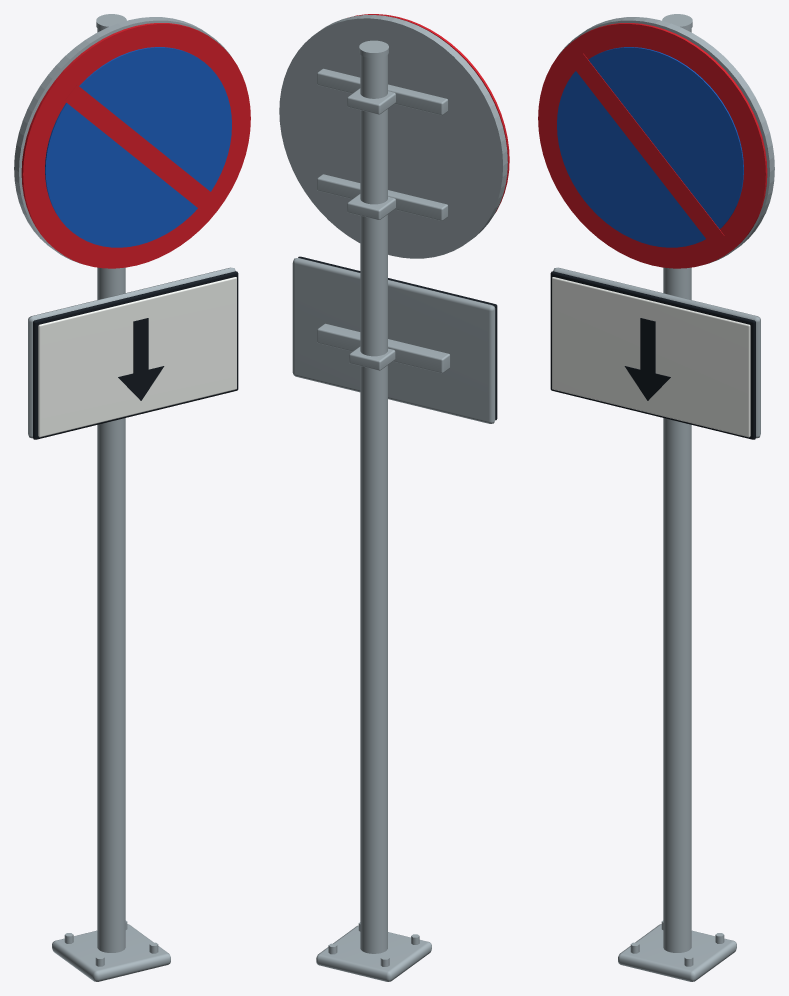
Rendered from DS_Sign_NoParking_ZoneEnd.glb.
3 renders of one model, left to right at view 1: azimuth 30°, elevation 25°; view 2: azimuth 150°, elevation 25°; view 3: azimuth 330°, elevation 25°, orthographic. The views are drawn at different scales.
Parts seen in each view (by area): view 1: Face_Field.015, PlaqueFace.012, Post.022, Face_Border.015, ProhibitionSlash0.003, BasePlate.022, Plate_Back.029, PlaqueBorder.012, Plate_Back.030, DirectionArrow.014; view 2: Plate_Back.029, Post.022, Plate_Back.030, BasePlate.022, RearRail.048, RearRail.047, RearRail.046, PlaqueBorder.012, PostClamp.043, PostClamp.042, Face_Border.015, PostClamp.044; view 3: Face_Field.015, PlaqueFace.012, Post.022, Face_Border.015, ProhibitionSlash0.003, BasePlate.022, Plate_Back.029, PlaqueBorder.012, Plate_Back.030, DirectionArrow.014.
Boxes of the visible parts, x1,y1,x2,y2 form: Face_Field.015: [45, 47, 231, 247]; PlaqueFace.012: [38, 277, 236, 437]; Post.022: [97, 28, 125, 952]; Face_Border.015: [21, 23, 250, 268]; ProhibitionSlash0.003: [64, 85, 218, 213]; BasePlate.022: [52, 924, 170, 981]; Plate_Back.029: [14, 17, 230, 263]; PlaqueBorder.012: [33, 271, 238, 439]; Plate_Back.030: [28, 267, 235, 438]; DirectionArrow.014: [118, 318, 164, 400]; Plate_Back.029: [279, 15, 507, 258]; Post.022: [360, 55, 387, 953]; Plate_Back.030: [292, 258, 495, 423]; BasePlate.022: [316, 925, 431, 981]; RearRail.048: [317, 323, 450, 373]; RearRail.047: [317, 68, 448, 115]; RearRail.046: [317, 174, 448, 220]; PlaqueBorder.012: [298, 256, 497, 420]; PostClamp.043: [347, 88, 395, 114]; PostClamp.042: [347, 194, 395, 219]; Face_Border.015: [354, 14, 509, 212]; PostClamp.044: [349, 346, 395, 370]; Face_Field.015: [557, 47, 743, 247]; PlaqueFace.012: [552, 277, 750, 437]; Post.022: [663, 28, 691, 952]; Face_Border.015: [538, 23, 767, 268]; ProhibitionSlash0.003: [570, 53, 724, 245]; BasePlate.022: [618, 924, 736, 981]; Plate_Back.029: [558, 17, 774, 263]; PlaqueBorder.012: [550, 271, 755, 439]; Plate_Back.030: [553, 267, 760, 438]; DirectionArrow.014: [624, 318, 670, 400].
Bounding box in the file's own units: 0.71 × 2.81 × 0.281.
